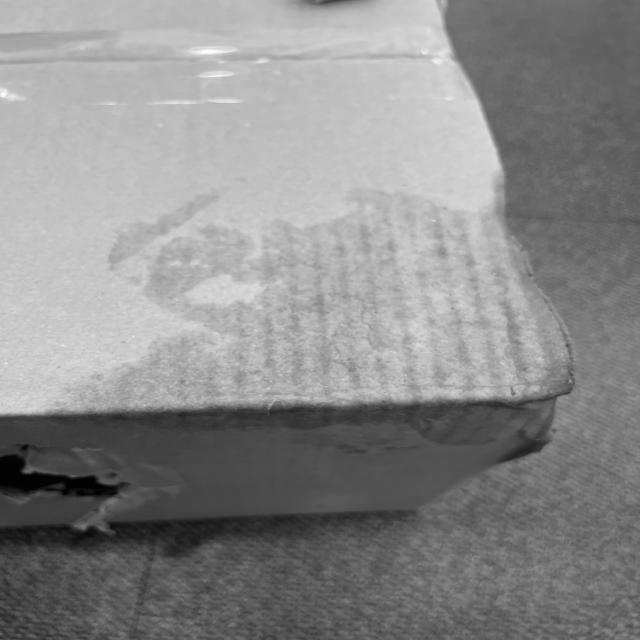hole: (0, 432, 140, 554)
wet: (154, 223, 564, 447)
